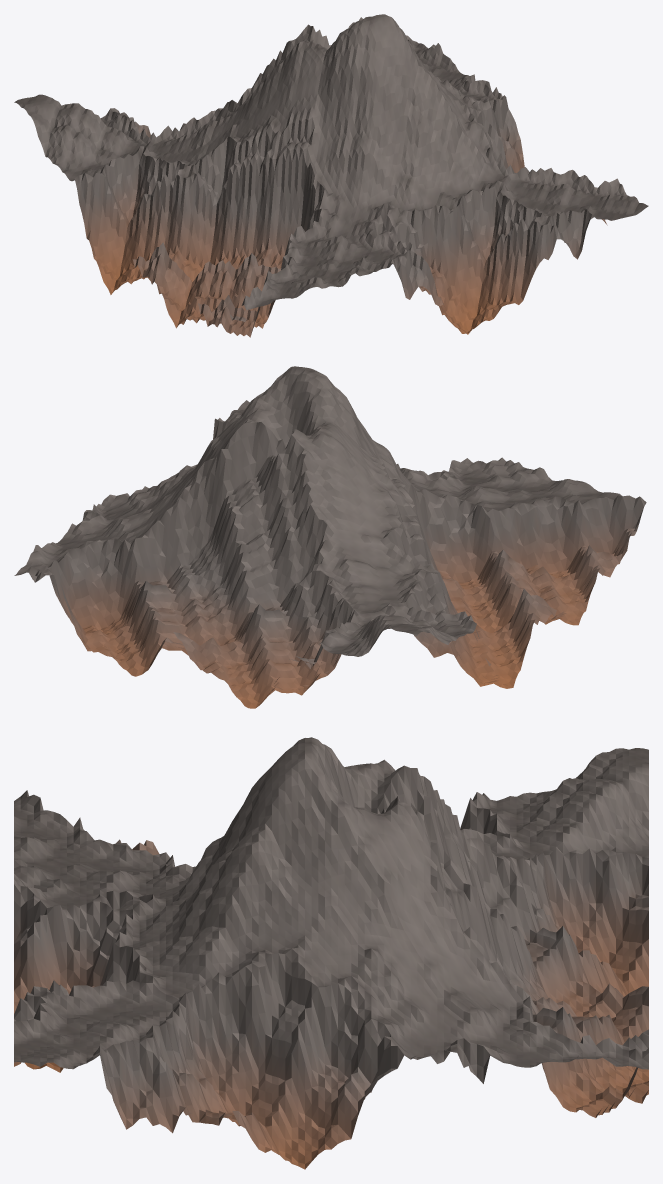
Rendered from volcanic_lod0.glb.
3 renders of one model, top to bottom at view 1: azimuth 30°, elevation 25°; view 2: azimuth 150°, elevation 25°; view 3: azimuth 270°, elevation 25°, orthographic. The views are drawn at different scales.
Parts seen in each view (by area): view 1: world; view 2: world; view 3: world.
Part boxes in pixels (x1,y1,x2,y2): world: [14, 14, 648, 337]; world: [14, 366, 646, 708]; world: [14, 737, 648, 1169].
Size of the model in its own units: 2 by 1.15 by 2.
